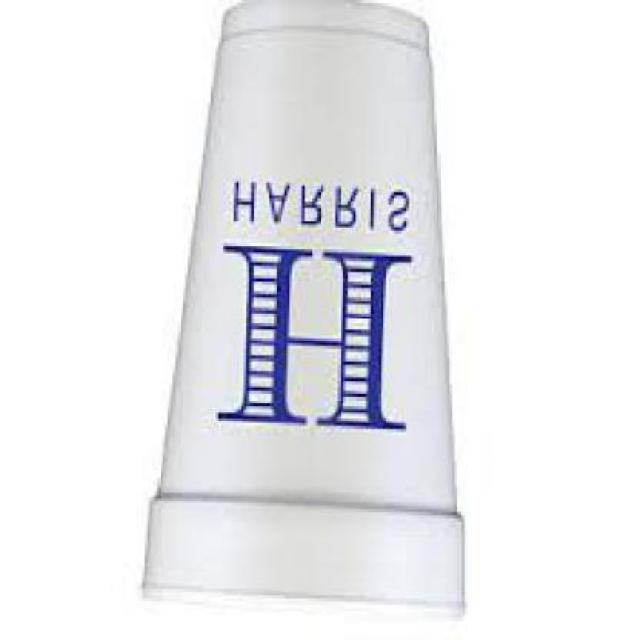PAPER: (140, 3, 466, 622)
